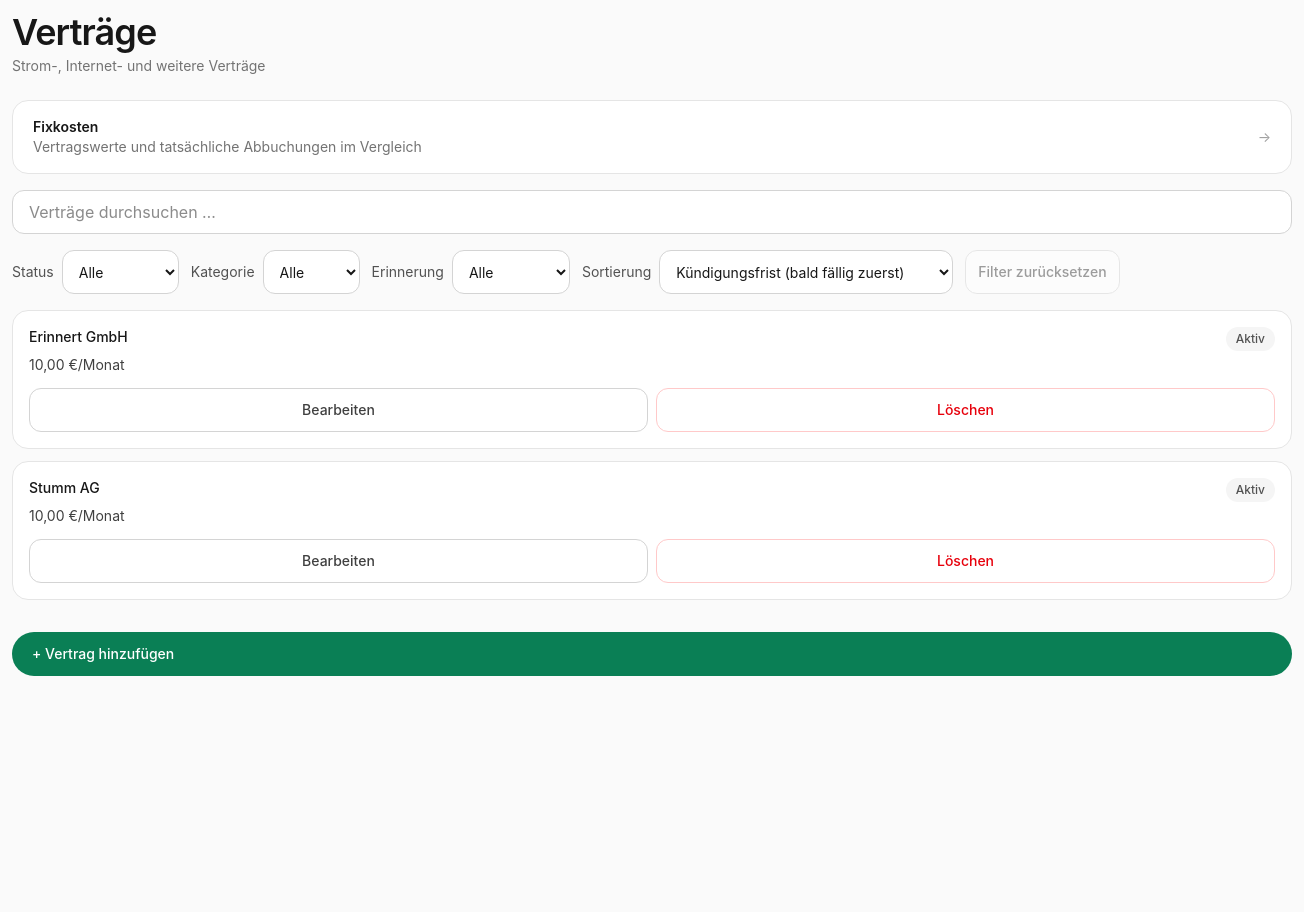
Test: ContractsPage › filters contracts by reminder status
Step 1. Select "Deaktiviert" in the dropdown labelled "Erinnerung" → (511, 272), box [452,250,570,294]
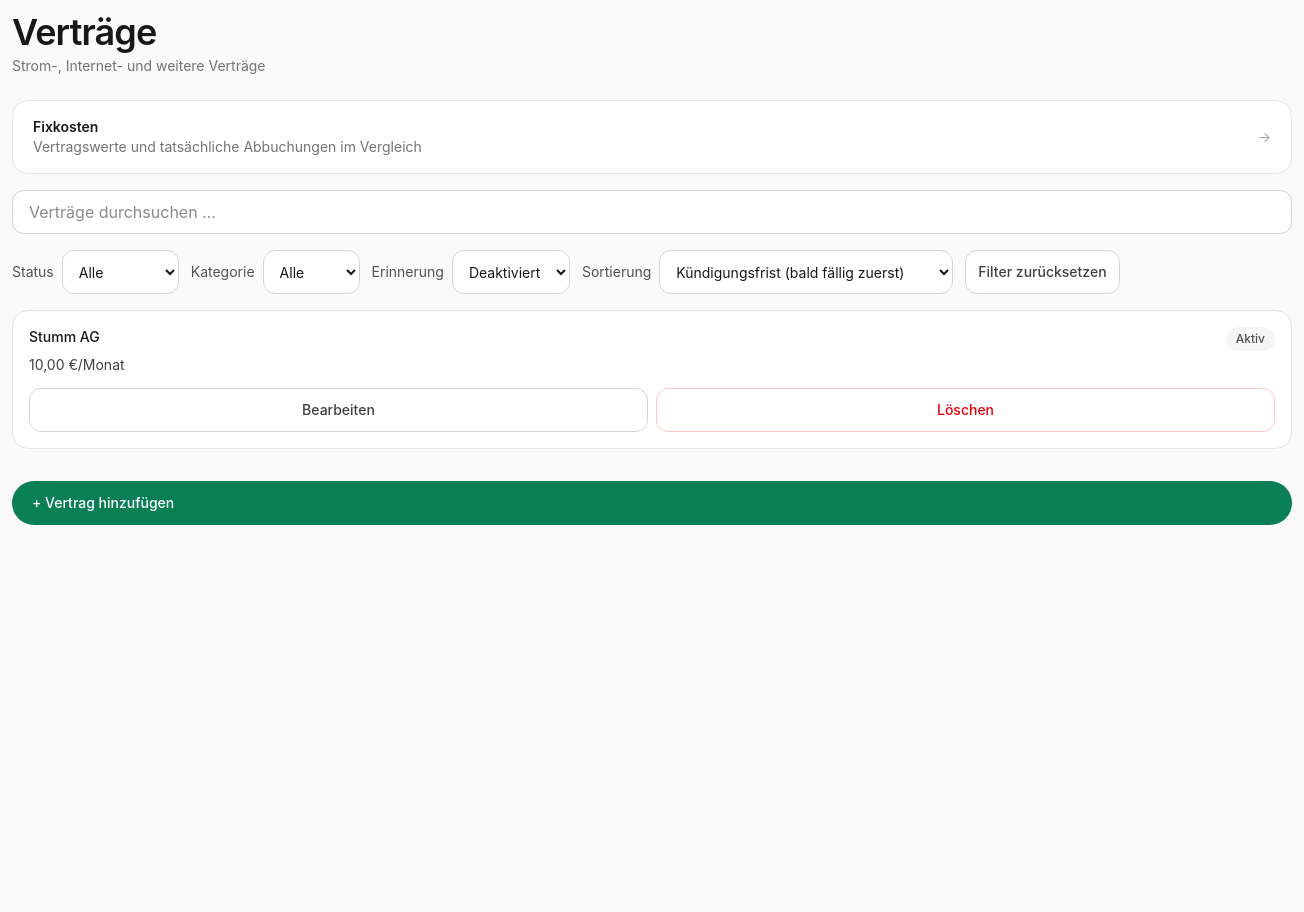
Expected: the text "Stumm AG" is shown, [29,327,100,347]
Expected: the number of list items is 1, [12,310,1292,449]
